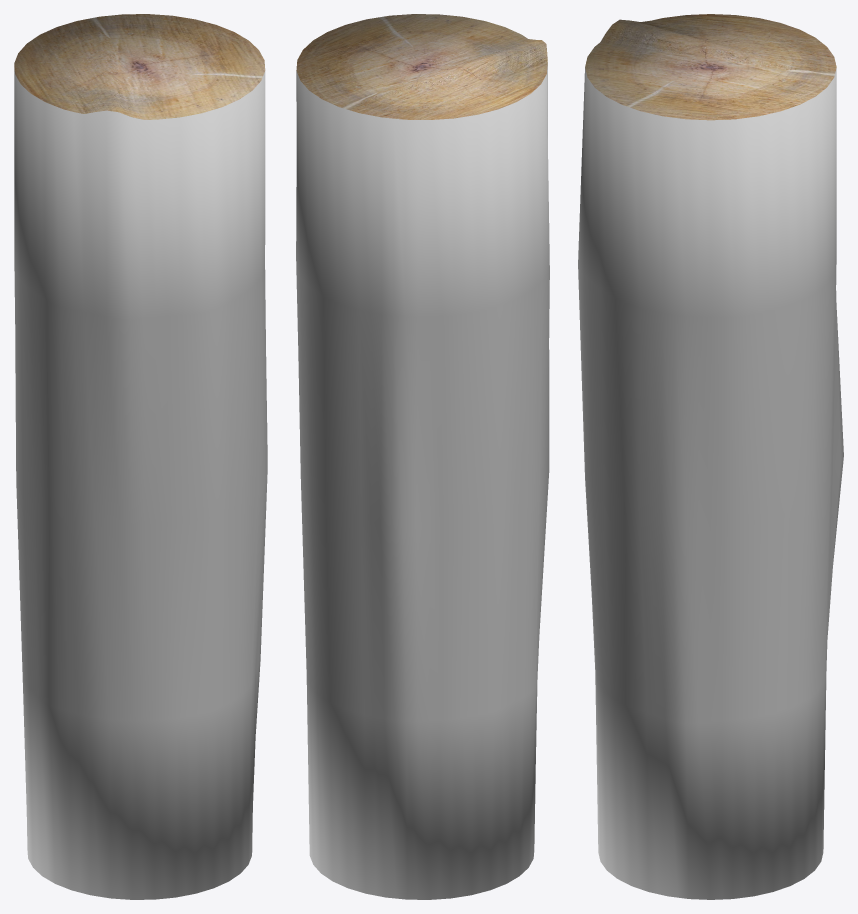
Rendered from wood.fbx.
3 renders of one model, left to right at view 1: azimuth 30°, elevation 25°; view 2: azimuth 150°, elevation 25°; view 3: azimuth 270°, elevation 25°, orthographic.
Visible parts, largest first — view 1: Cylinder; view 2: Cylinder; view 3: Cylinder.
Boxes of the visible parts, bbox=[...] form: Cylinder: bbox=[14, 14, 267, 899]; Cylinder: bbox=[296, 14, 549, 899]; Cylinder: bbox=[578, 14, 843, 899].
Bounding box in the file's own units: 200 × 697 × 211.
